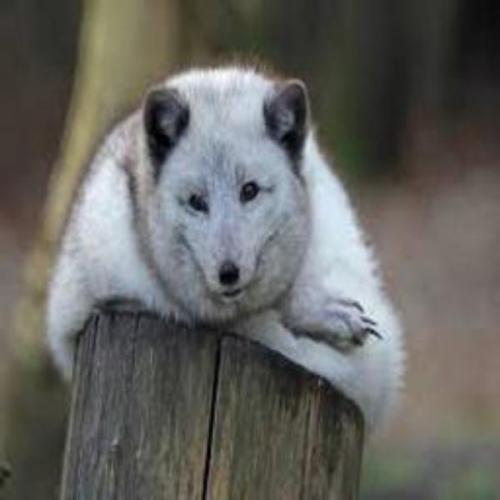arctic_fox-endangered: (48, 66, 393, 405)
